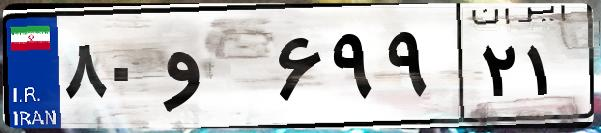0: (110, 28, 158, 98)
1: (525, 38, 570, 115)
2: (475, 38, 525, 113)
6: (270, 28, 330, 110)
8: (57, 26, 110, 100)
9: (385, 28, 445, 110), (330, 28, 385, 110)
و: (158, 20, 270, 120)
